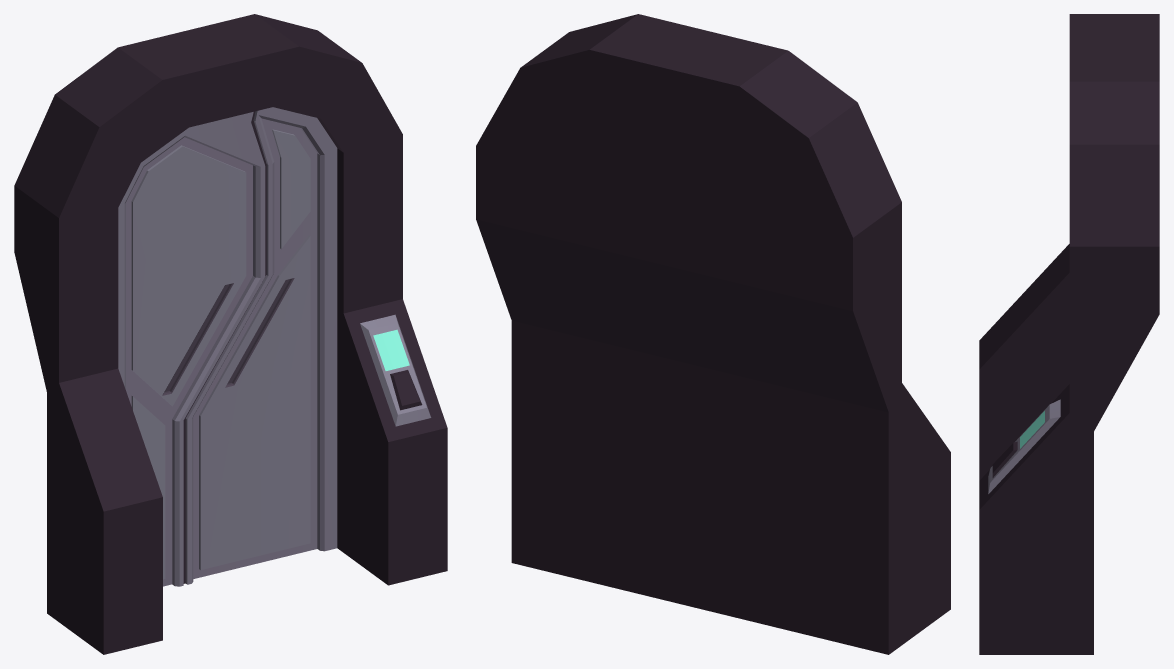
File: Door.fbx
3 renders of one model, left to right at view 1: azimuth 30°, elevation 25°; view 2: azimuth 150°, elevation 25°; view 3: azimuth 270°, elevation 25°, orthographic. The views are drawn at different scales.
Visible parts, largest first — view 1: Door; view 2: Door; view 3: Door.
Part boxes in pixels (x1,y1,x2,y2): Door: (14,14,447,654); Door: (476,14,950,654); Door: (979,14,1159,654).
Bounding box in the file's own units: 610 × 877 × 274.
